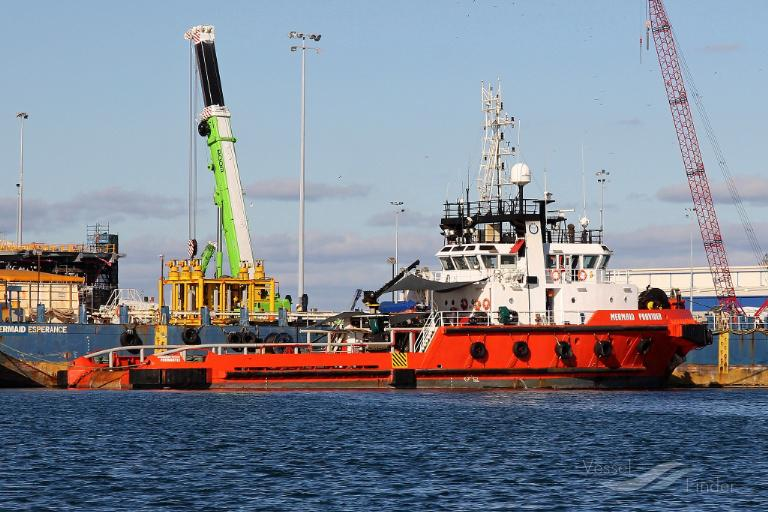OCR: (608, 311, 666, 329)
